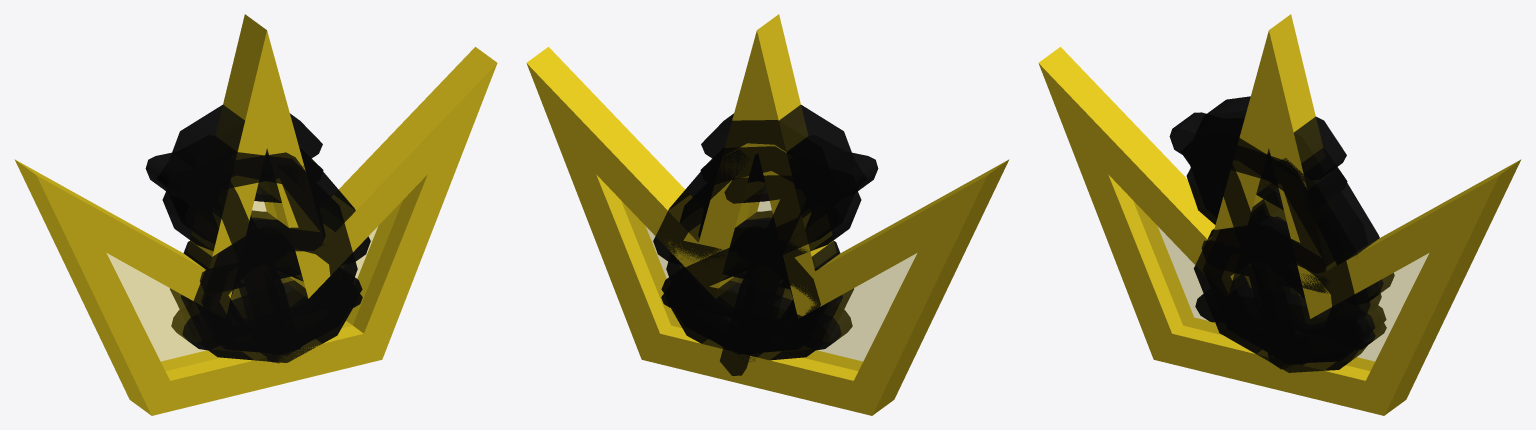
Rendered from numbers.fbx.
The picture shows the model from 3 angles, left to right: view 1: azimuth 30°, elevation 25°; view 2: azimuth 150°, elevation 25°; view 3: azimuth 330°, elevation 25°; orthographic projection.
Visible parts, largest first — view 1: 00_king, 06, 05, 02, 04, King_in, 03, 01; view 2: 00_king, 02, 03, 01, 05, King_in, 04, 06; view 3: 00_king, 06, 05, 04, 02, King_in, 03, 01.
Boxes of the visible parts, bbox=[...] form: 00_king: bbox=[14, 14, 497, 415]; 06: bbox=[157, 135, 357, 355]; 05: bbox=[145, 152, 357, 362]; 02: bbox=[170, 105, 362, 350]; 04: bbox=[186, 157, 370, 363]; King_in: bbox=[107, 201, 402, 370]; 03: bbox=[162, 148, 362, 351]; 01: bbox=[218, 180, 300, 348]; 00_king: bbox=[526, 14, 1009, 415]; 02: bbox=[661, 105, 854, 350]; 03: bbox=[661, 146, 861, 353]; 01: bbox=[720, 175, 812, 375]; 05: bbox=[667, 152, 878, 360]; King_in: bbox=[621, 201, 916, 370]; 04: bbox=[653, 150, 837, 361]; 06: bbox=[666, 136, 866, 335]; 00_king: bbox=[1038, 14, 1521, 415]; 06: bbox=[1181, 118, 1381, 365]; 05: bbox=[1169, 112, 1369, 372]; 04: bbox=[1201, 136, 1394, 369]; 02: bbox=[1188, 96, 1386, 350]; King_in: bbox=[1133, 199, 1428, 370]; 03: bbox=[1186, 138, 1386, 361]; 01: bbox=[1220, 169, 1304, 364].
Bounding box in the file's own units: 120 × 88.96 × 10.
